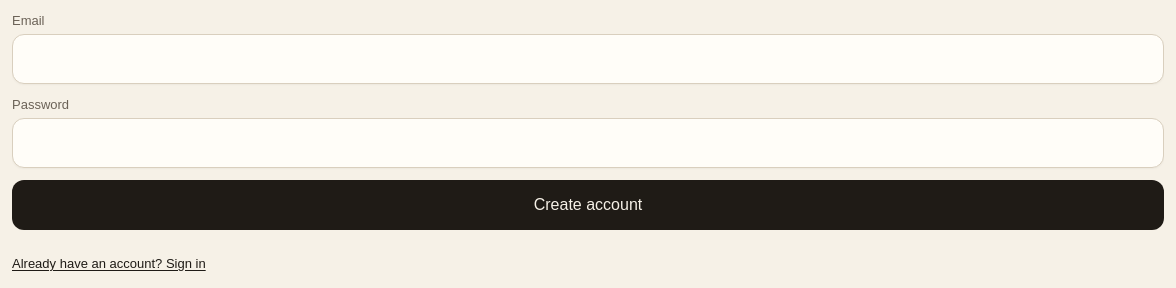
Test: a signed-out visitor sees the sign-up form by default; a successful sign-up redeems and shows success
This screenshot has width=1176, height=288.
Expected: the button "Create account" is shown, [12,180,1164,230]
Type "person@example.com" into the field labelled "Email" at (588, 59), box [12,34,1164,84]
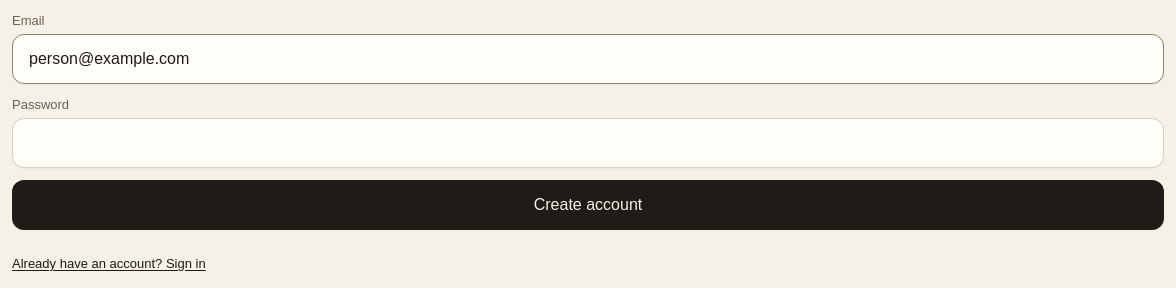
Type "a-real-password" into the password field labelled "Password" at (588, 143), box [12,118,1164,168]
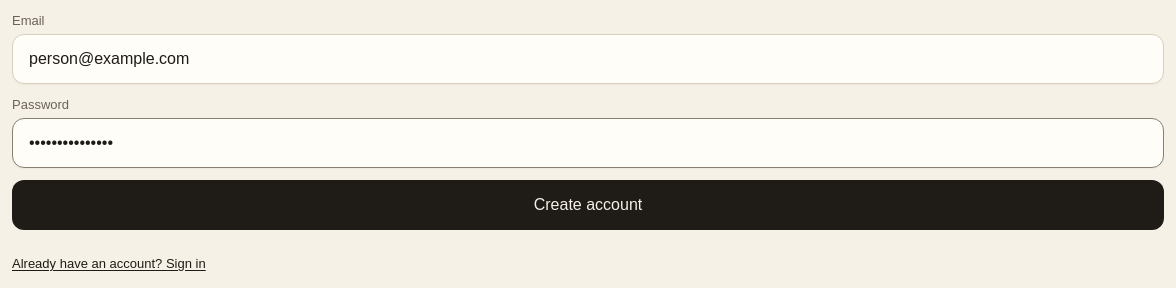
Click the button "Create account" at (588, 205), box [12,180,1164,230]
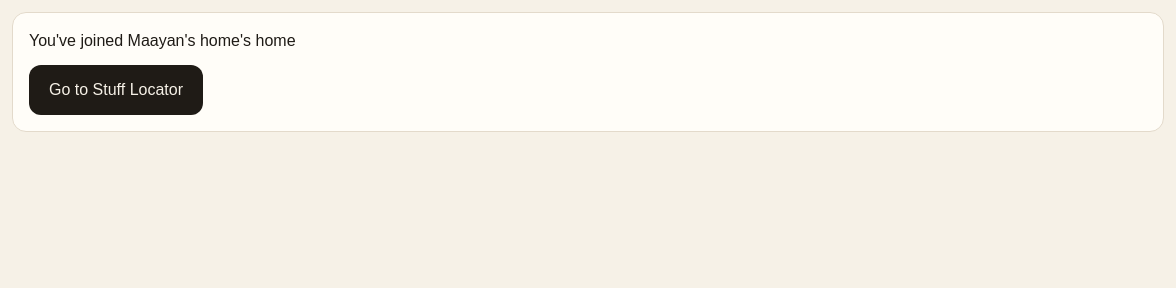
Now the message shows "Maayan's home", box [128,32,240,49]
